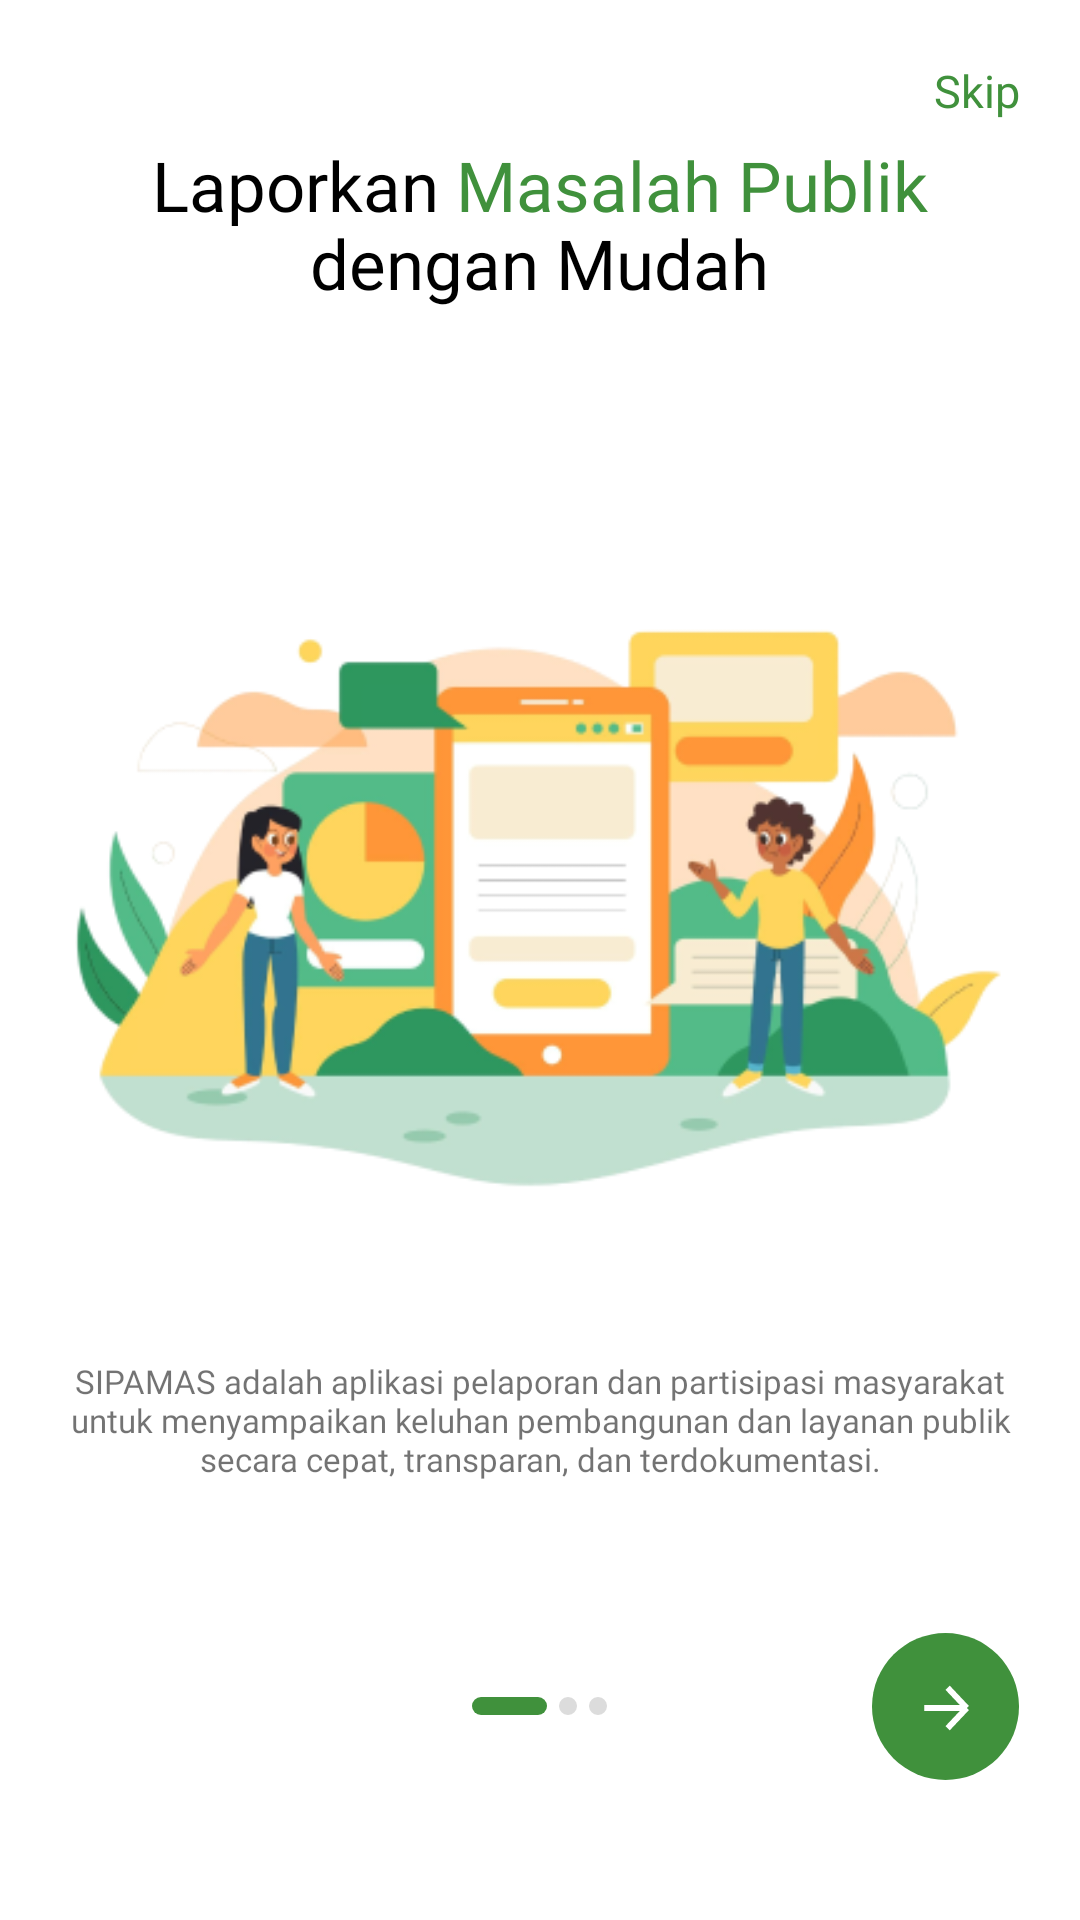

Icon click points for this 1080 × 1920 phone screenshot, format point (x, y):
arrow right: point (945, 1706)
